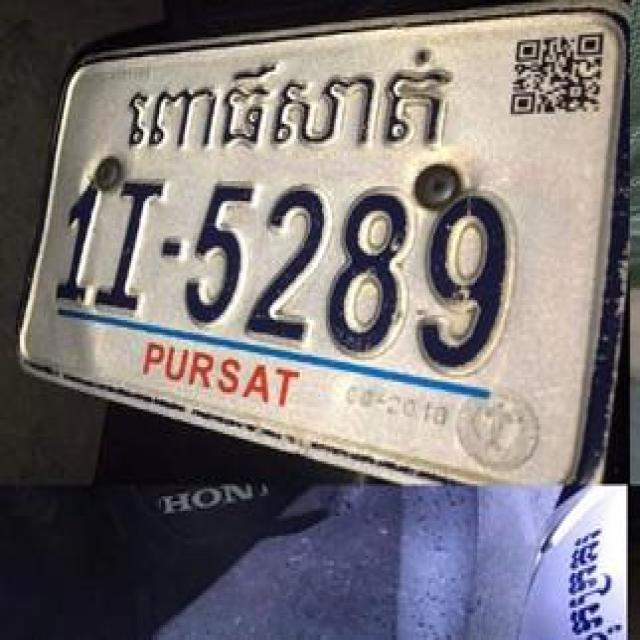Pursat: (123, 50, 456, 164)
